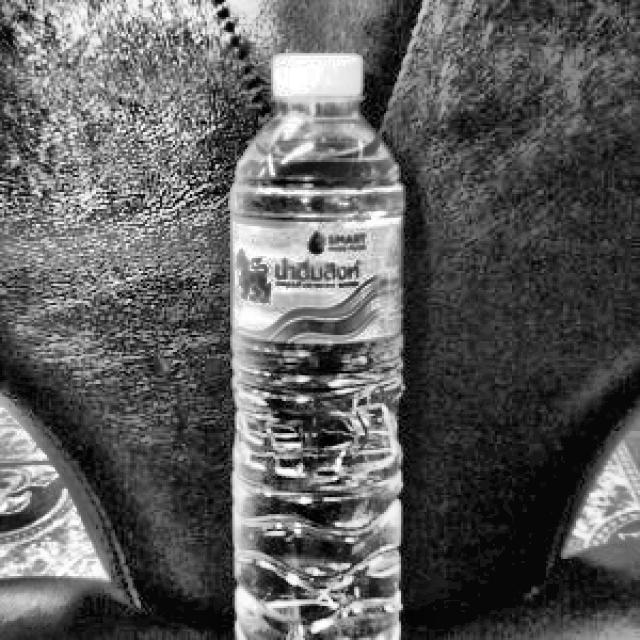waterbottle: (221, 40, 420, 640)
